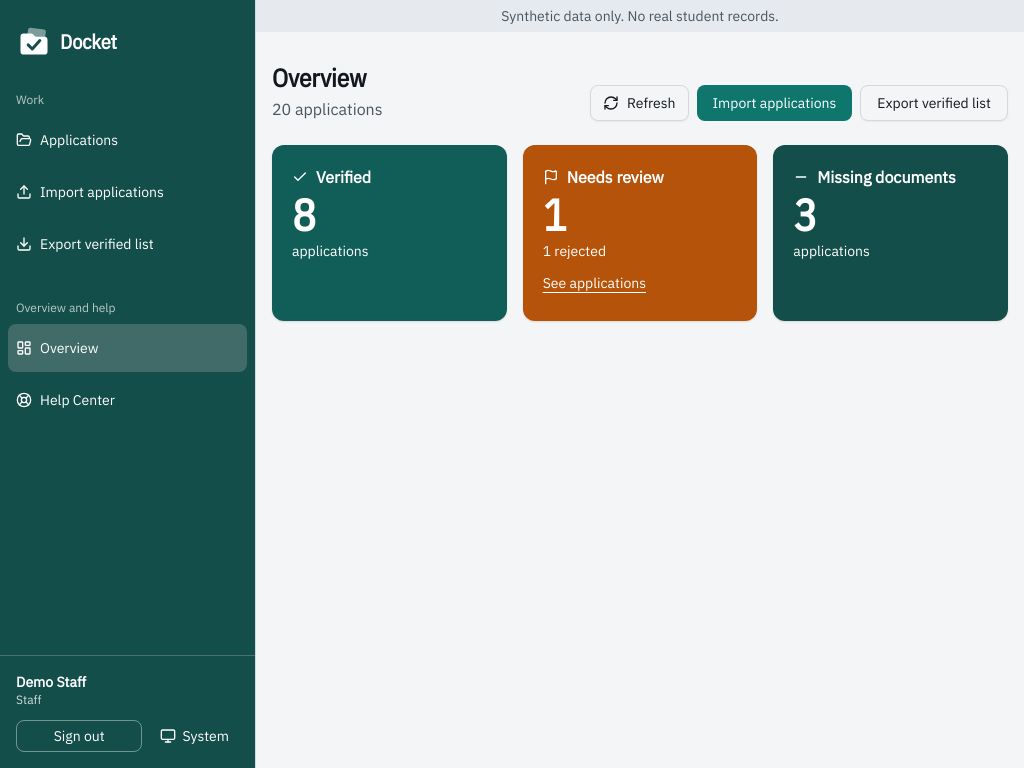
Test: the dashboard › follows a link inside the app without reloading the page
The image size is (1024, 768).
Click the link "Import applications" in the row of "20 applications": (774, 103) [696,85,852,121]
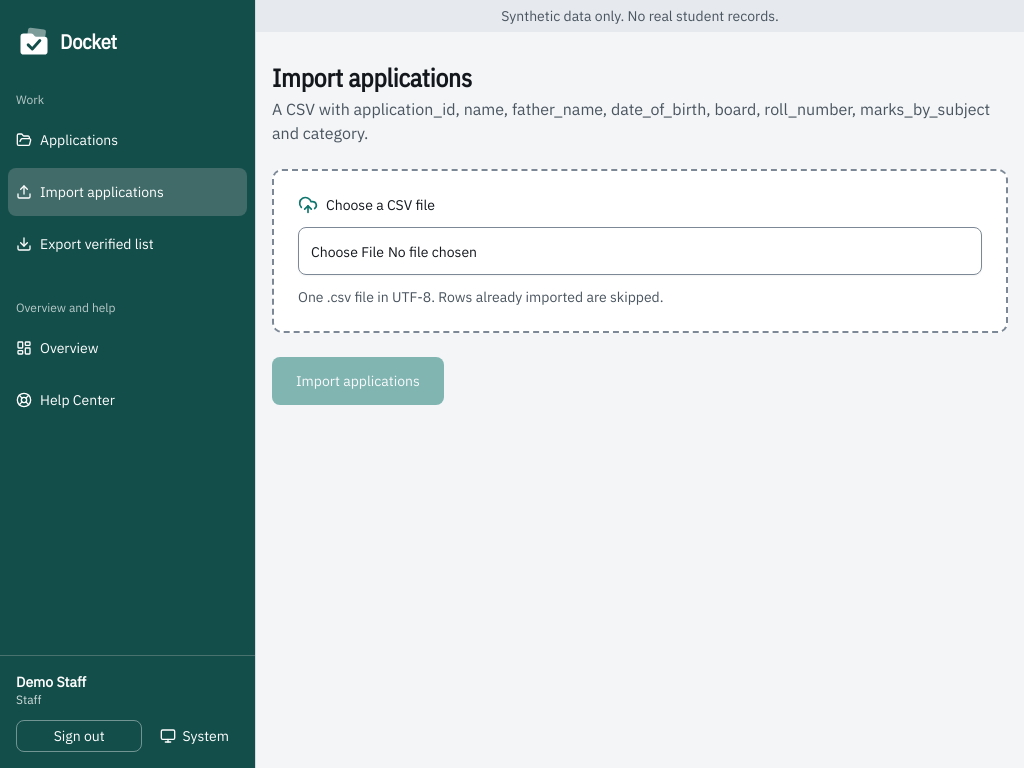
Check: the heading "Import applications" is shown, box [272,61,472,94]
